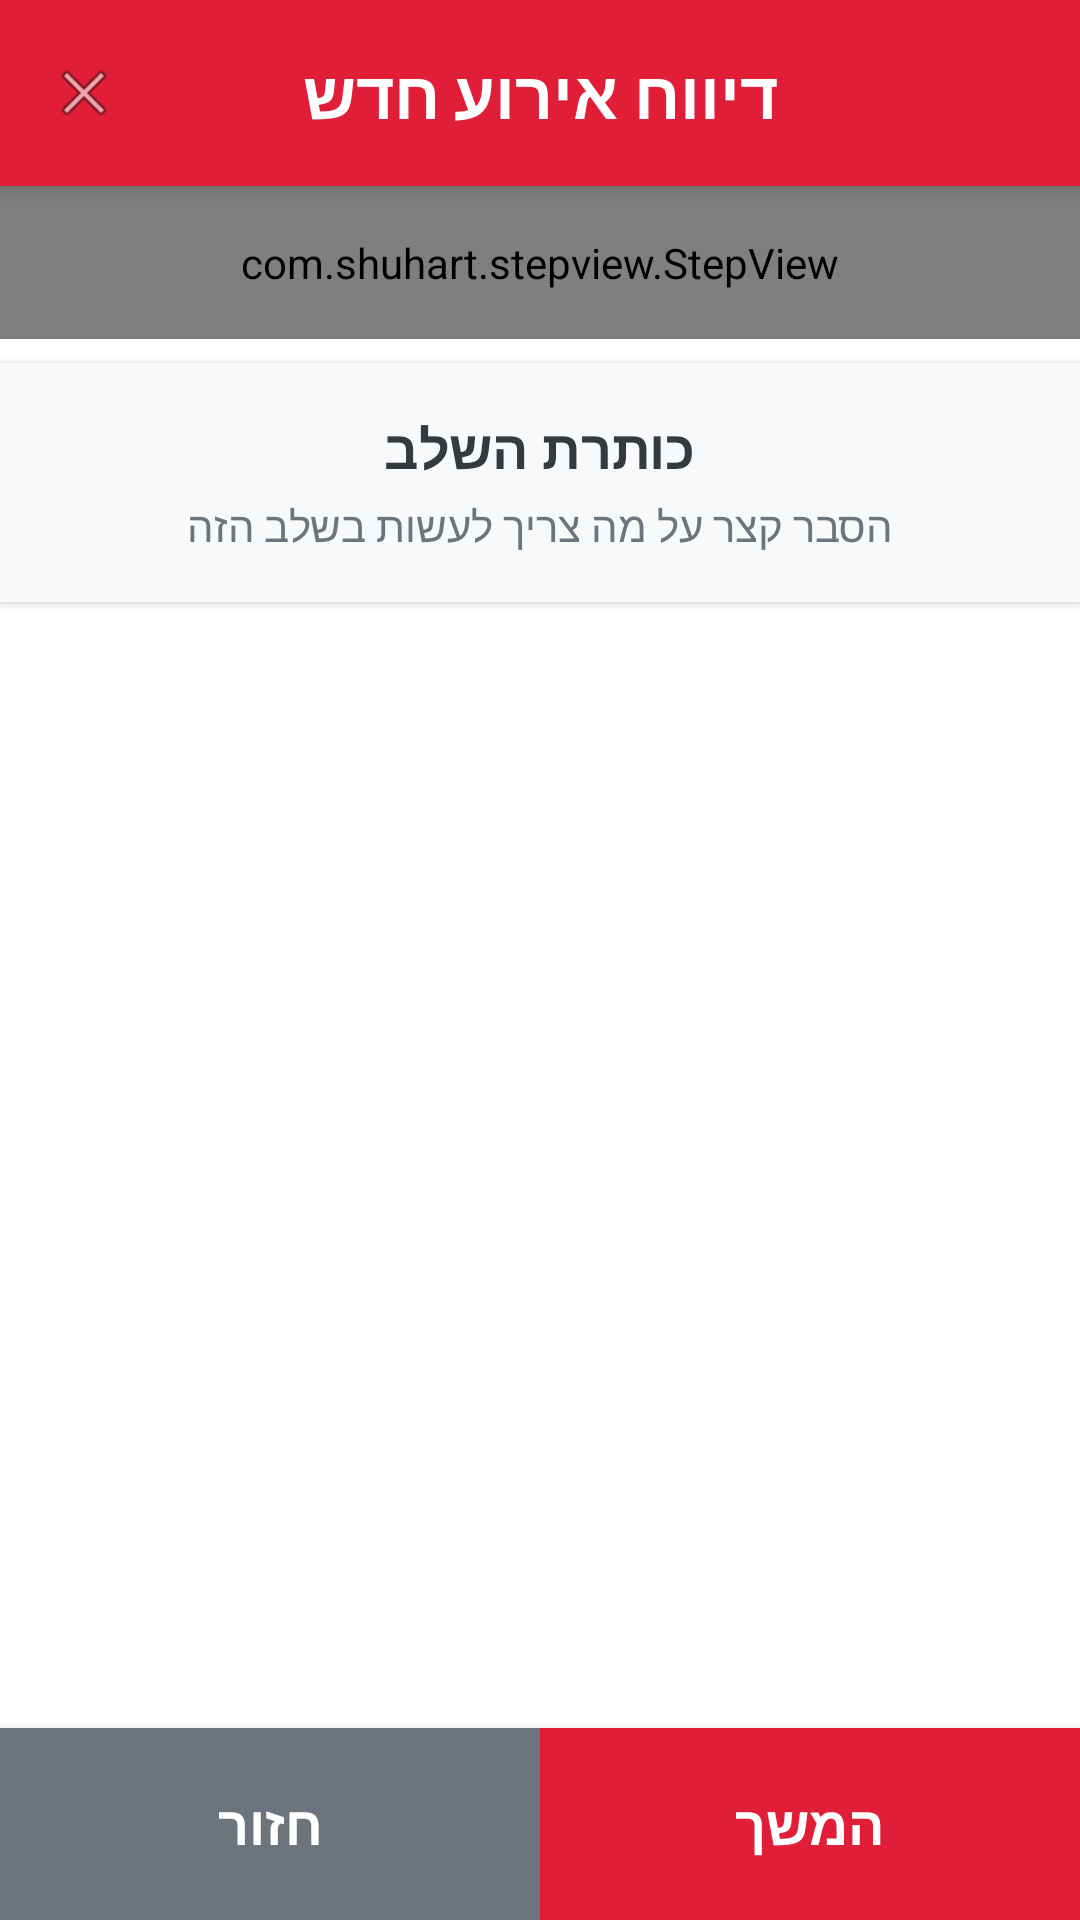

Named icons in this screenshot (1080x1920) and their bounding boxes, [x1=x1, y1=y1, x2=x2, y2=y2]:
close clear cancel: [x1=61, y1=70, x2=107, y2=116]
